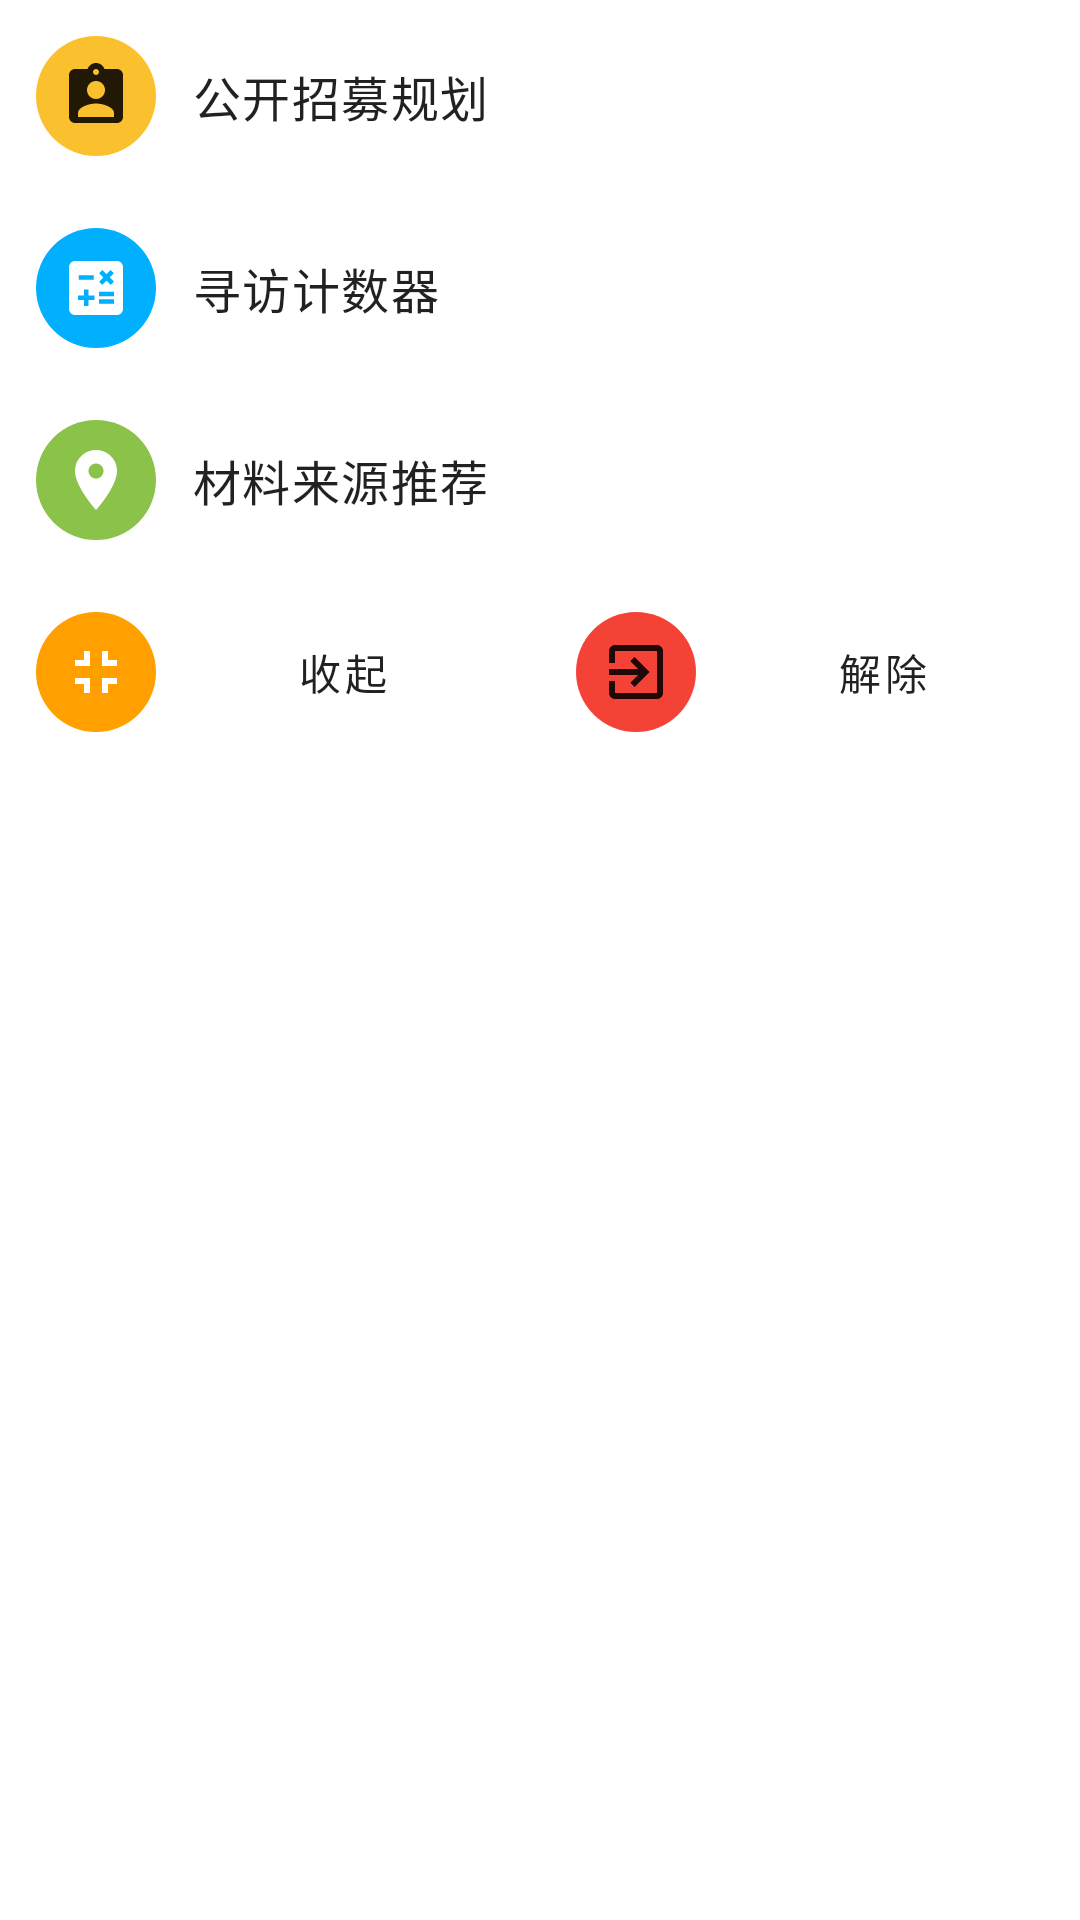

Icons on this 1080x1920 Android screen, each with its box as (x1, y1, x2, y2):
collapse: (36, 612, 156, 732)
counter: (36, 228, 156, 348)
place: (36, 420, 156, 540)
recruit: (36, 36, 156, 156)
